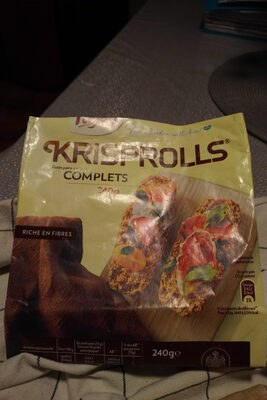Krisprolls: (13, 20, 254, 380)
